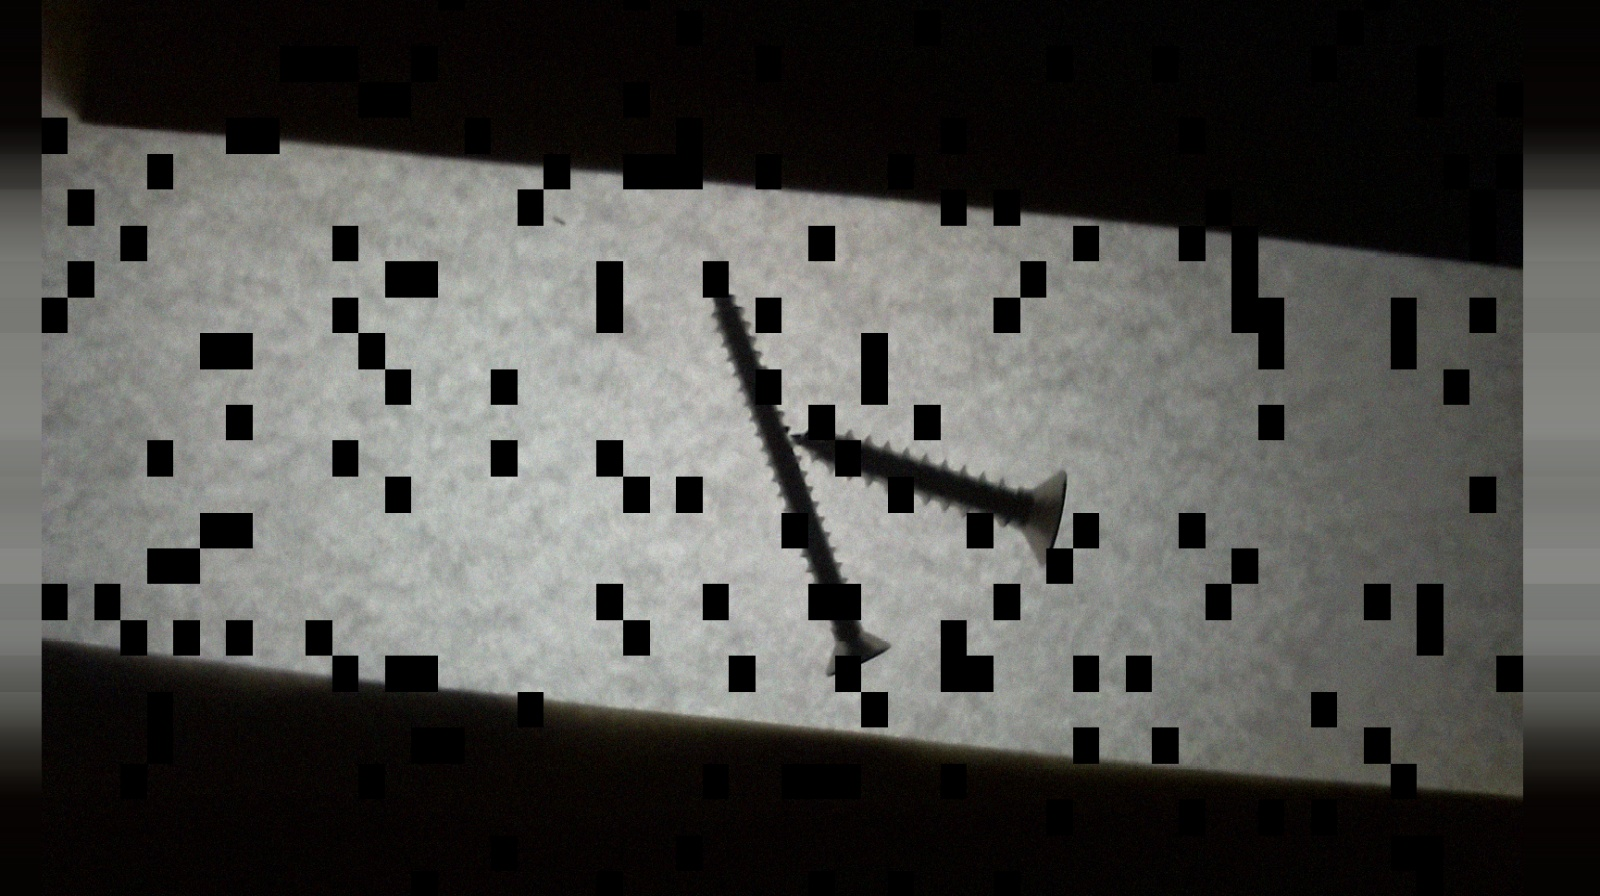S001: (777, 420, 1076, 573)
S002: (700, 265, 903, 684)
